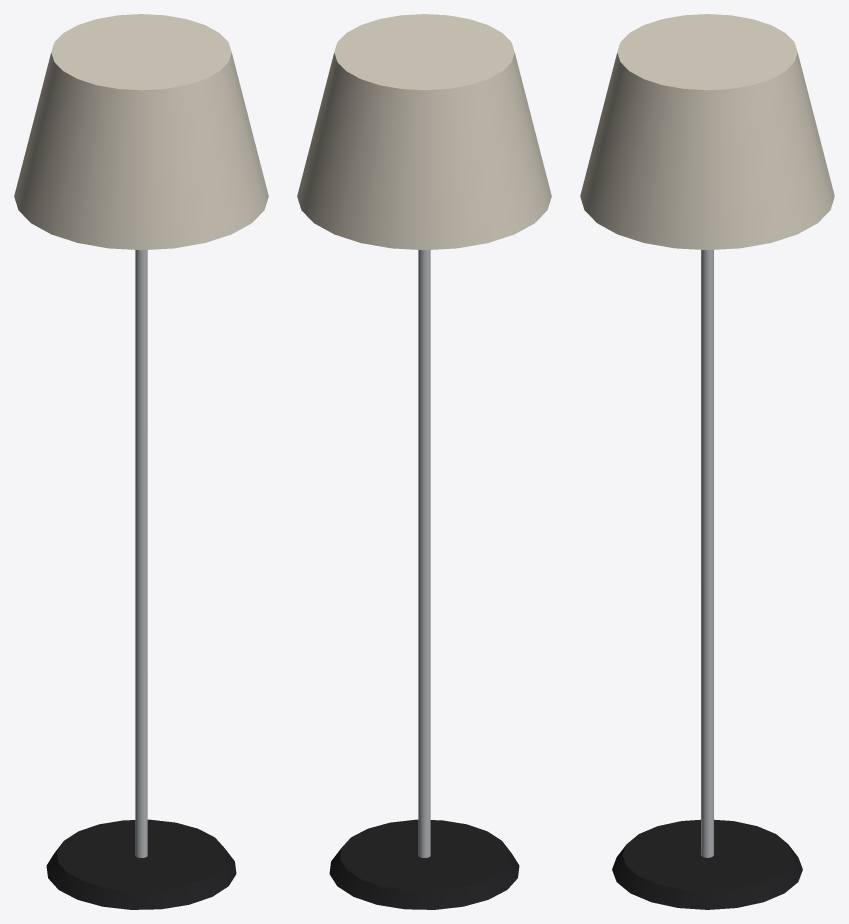
The model's file is floorLamp.glb.
The picture shows the model from 3 angles, left to right: view 1: azimuth 30°, elevation 25°; view 2: azimuth 150°, elevation 25°; view 3: azimuth 270°, elevation 25°; orthographic projection.
Visible parts, largest first — view 1: floorLamp; view 2: floorLamp; view 3: floorLamp.
Boxes of the visible parts, left/top/right/bottom form: floorLamp: left=14, top=14, right=268, bottom=909; floorLamp: left=297, top=14, right=551, bottom=909; floorLamp: left=580, top=14, right=834, bottom=909.
Size of the model in its own units: 0.48 by 1.7 by 0.48.
